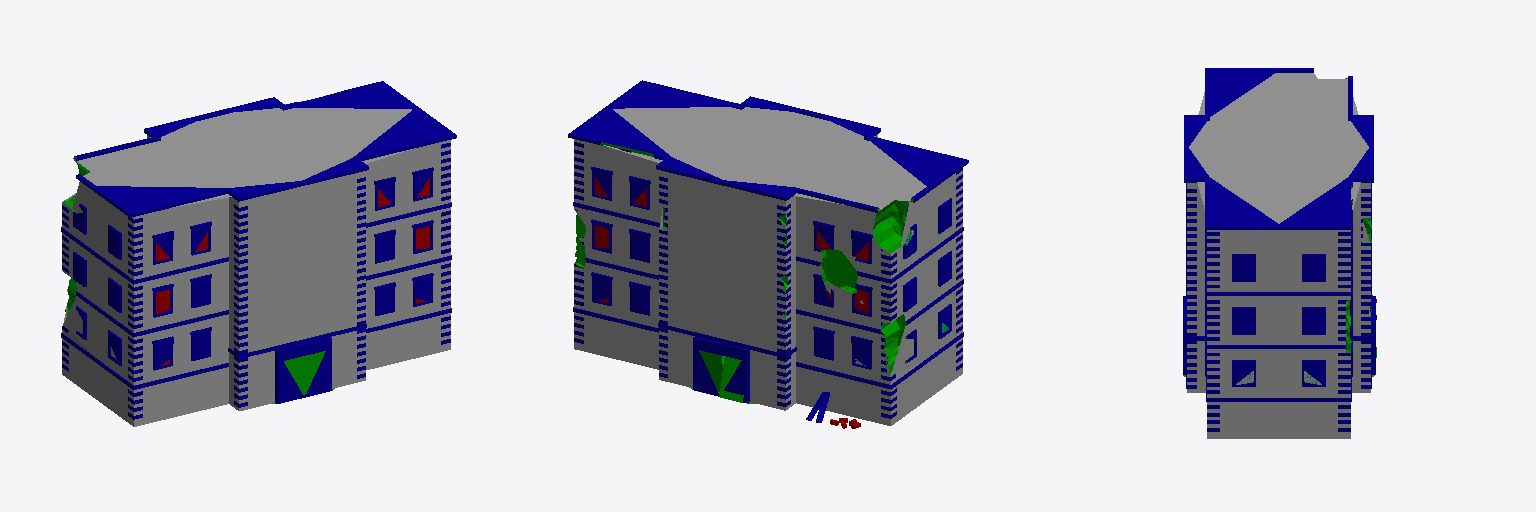
Rendered from building_right_center.obj.
The picture shows the model from 3 angles: view 1: azimuth 30°, elevation 25°; view 2: azimuth 150°, elevation 25°; view 3: azimuth 270°, elevation 25°; orthographic projection.
Visible parts, largest first — view 1: barak_vpravo_vprostred_Cube.021; view 2: barak_vpravo_vprostred_Cube.021; view 3: barak_vpravo_vprostred_Cube.021.
Boxes of the visible parts, x1,y1,x2,y2 form: barak_vpravo_vprostred_Cube.021: [61, 81, 456, 426]; barak_vpravo_vprostred_Cube.021: [568, 80, 968, 428]; barak_vpravo_vprostred_Cube.021: [1183, 68, 1376, 438].
Bounding box in the file's own units: 21.15 × 13.45 × 10.94.